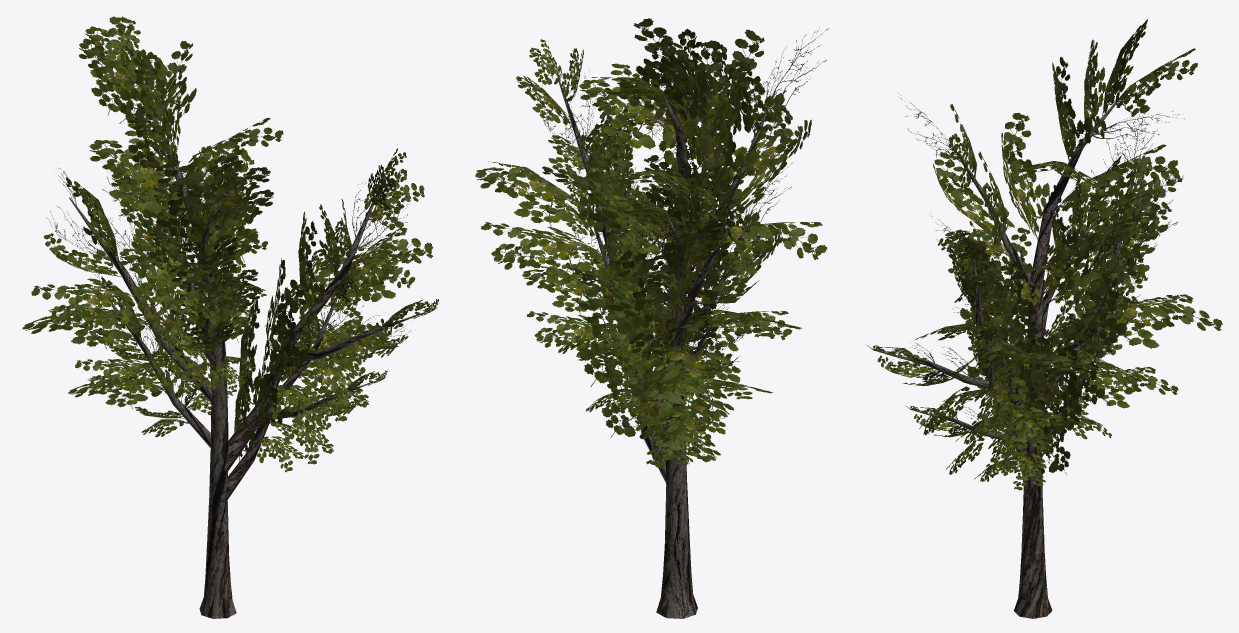
File: laubbaum.fbx
3 renders of one model, left to right at view 1: azimuth 30°, elevation 25°; view 2: azimuth 150°, elevation 25°; view 3: azimuth 270°, elevation 25°, orthographic. The views are drawn at different scales.
Visible parts, largest first — view 1: Circle.005, Plane.029, Plane.052, Circle.001, Plane.001, Plane.045, Plane.038, Plane.026, Plane.027, Plane.046, Plane.005, Plane.050 (+8 smaller); view 2: Circle.005, Plane.026, Plane.004, Plane.007, Plane.046, Plane.050, Plane.051, Plane.006, Plane.023, Plane.035, Plane.047, Plane.037 (+8 smaller); view 3: Circle.005, Plane.026, Plane.023, Plane.038, Plane.004, Plane.037, Plane.002, Plane.003, Plane.048, Plane.032, Circle.001, Plane.046 (+4 smaller).
Boxes of the visible parts, bbox=[...] form: Circle.005: bbox=[22, 16, 438, 618]; Plane.029: bbox=[75, 355, 156, 393]; Plane.052: bbox=[198, 260, 258, 318]; Circle.001: bbox=[226, 282, 342, 499]; Plane.001: bbox=[255, 340, 288, 425]; Plane.045: bbox=[170, 260, 242, 329]; Plane.038: bbox=[119, 236, 199, 308]; Plane.026: bbox=[68, 376, 166, 408]; Plane.027: bbox=[152, 309, 210, 372]; Plane.046: bbox=[149, 212, 188, 272]; Plane.005: bbox=[283, 415, 333, 464]; Plane.050: bbox=[111, 154, 175, 232]; Circle.005: bbox=[475, 18, 828, 618]; Plane.026: bbox=[635, 404, 725, 467]; Plane.004: bbox=[601, 344, 664, 441]; Plane.007: bbox=[527, 311, 617, 358]; Plane.046: bbox=[660, 171, 733, 258]; Plane.050: bbox=[645, 167, 700, 230]; Plane.051: bbox=[633, 155, 699, 235]; Plane.006: bbox=[522, 266, 608, 316]; Plane.023: bbox=[629, 327, 702, 403]; Plane.035: bbox=[703, 311, 792, 351]; Plane.047: bbox=[602, 189, 676, 255]; Plane.037: bbox=[573, 268, 672, 317]; Circle.005: bbox=[867, 19, 1222, 618]; Plane.026: bbox=[1082, 367, 1178, 408]; Plane.023: bbox=[1065, 321, 1117, 404]; Plane.038: bbox=[1050, 252, 1143, 311]; Plane.004: bbox=[1002, 392, 1070, 476]; Plane.037: bbox=[1046, 304, 1117, 361]; Plane.002: bbox=[1002, 449, 1046, 490]; Plane.003: bbox=[984, 427, 1029, 474]; Plane.048: bbox=[1095, 179, 1159, 227]; Plane.032: bbox=[1093, 261, 1147, 331]; Circle.001: bbox=[987, 339, 1038, 503]; Plane.046: bbox=[1048, 185, 1078, 260].
Bounding box in the file's own units: 653 × 1038 × 597.
1 material, 1 textured.
